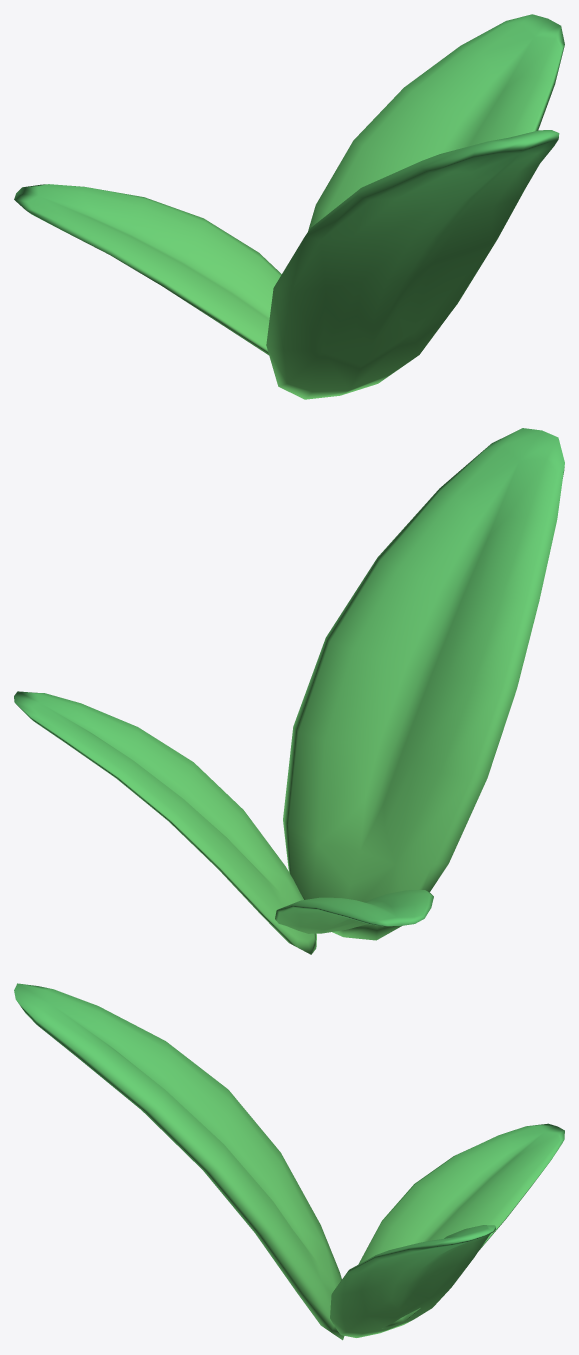
Rendered from leaves.fbx.
3 renders of one model, top to bottom at view 1: azimuth 30°, elevation 25°; view 2: azimuth 150°, elevation 25°; view 3: azimuth 270°, elevation 25°, orthographic. The views are drawn at different scales.
Parts seen in each view (by area): view 1: grass; view 2: grass; view 3: grass.
Boxes of the visible parts, x1,y1,x2,y2 form: grass: [14, 14, 564, 399]; grass: [14, 428, 564, 954]; grass: [14, 983, 564, 1340].
Bounding box in the file's own units: 200 × 159 × 238.
